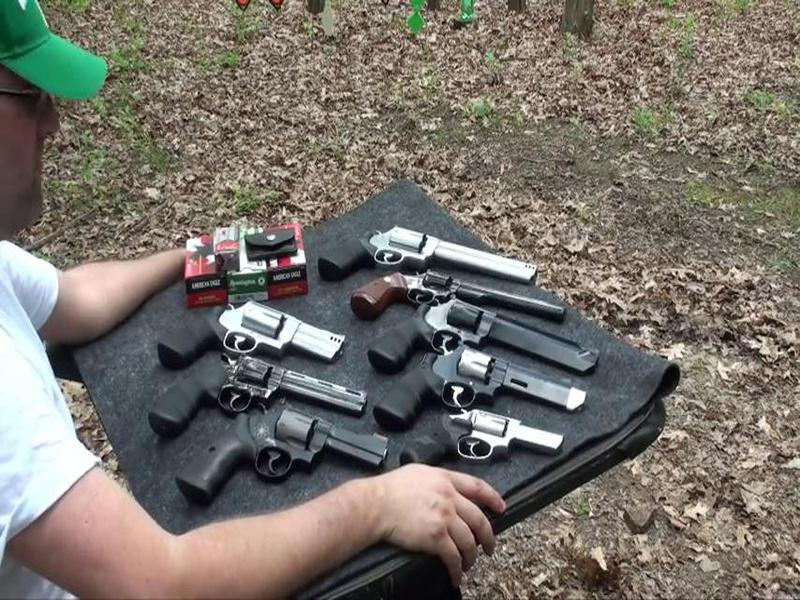Revolver: (157, 294, 346, 376)
